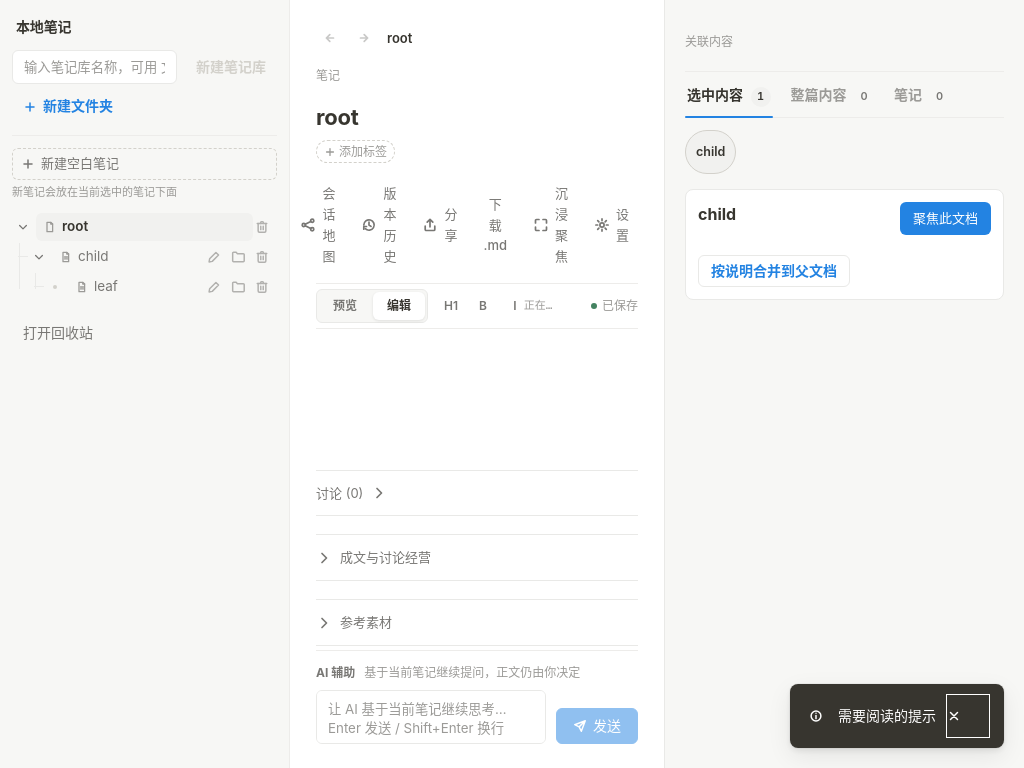
Test case: Workbench › pauses toast dismissal while an action inside it has focus
(page scrolled)
Focus the button named "关闭提示" at (968,716), box left=946, top=694, right=990, bottom=738
Expected: the text "需要阅读的提示" is shown, left=838, top=705, right=936, bottom=727
Leave the button named "关闭提示", box left=946, top=694, right=990, bottom=738
Wait 8000 ms
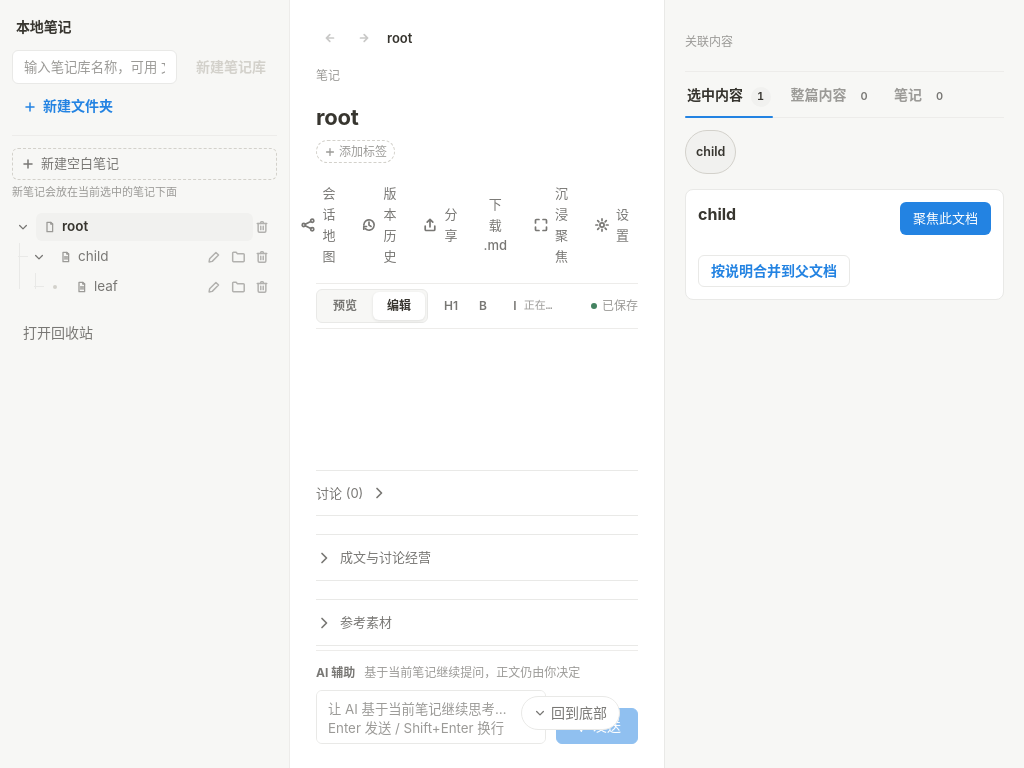
Result: the text "需要阅读的提示" is gone
